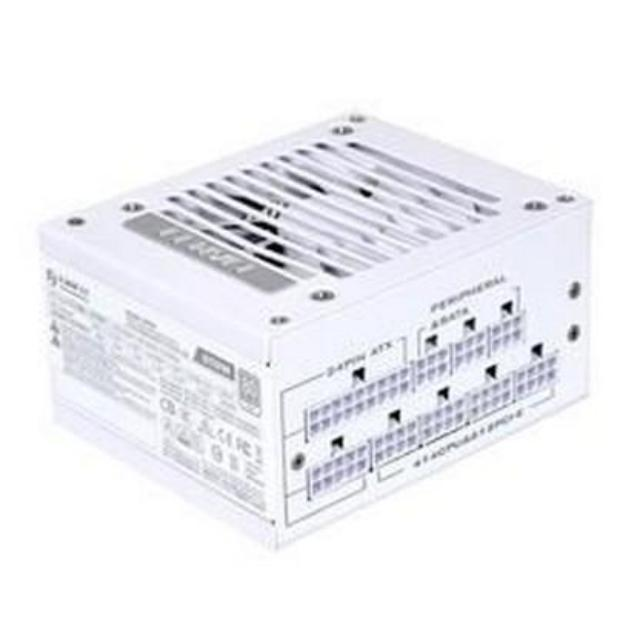PSU: (38, 100, 618, 552)
